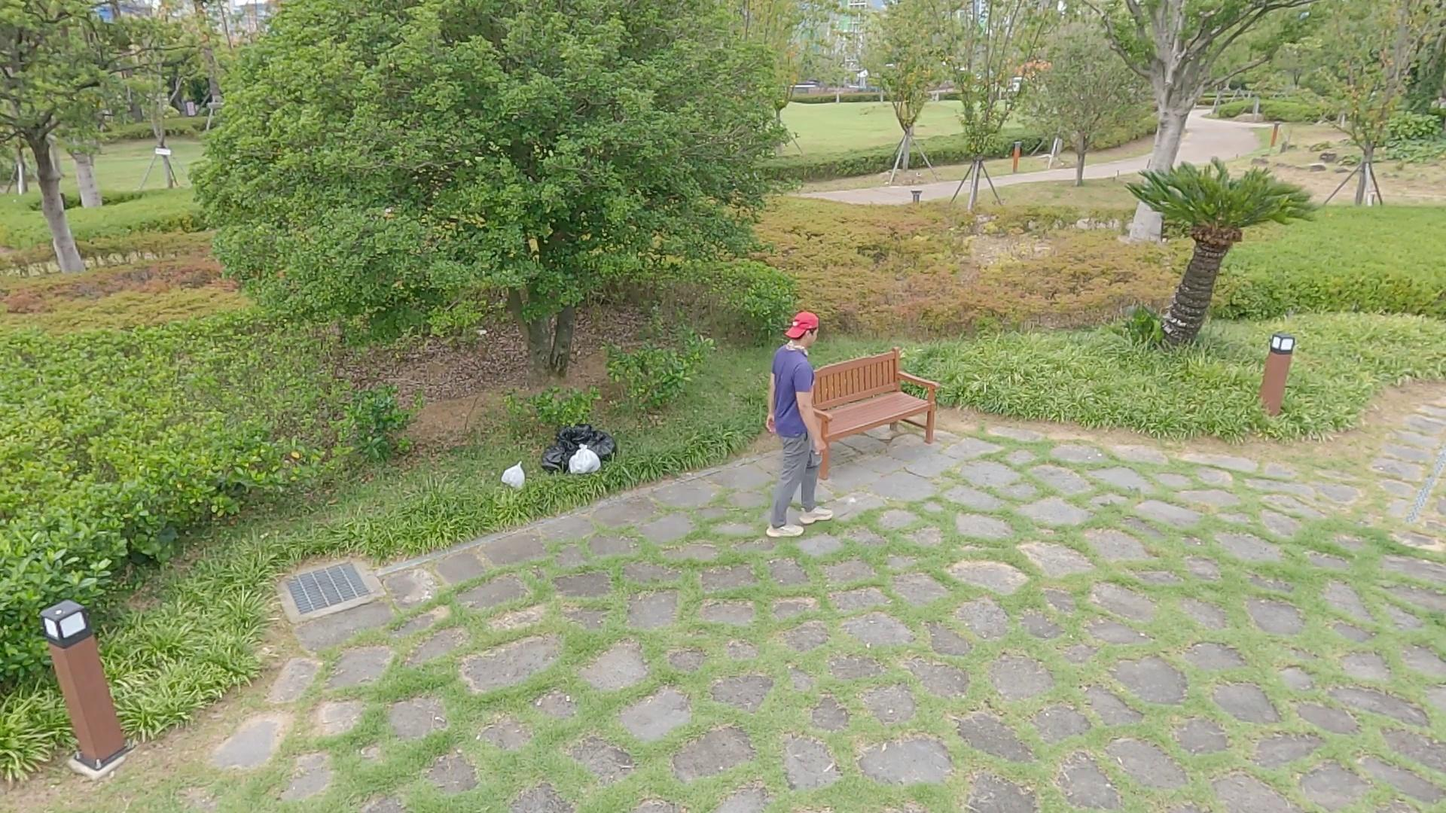person: (766, 308, 841, 541)
trash: (558, 414, 596, 454), (578, 427, 618, 465), (566, 444, 603, 478), (540, 431, 569, 472), (501, 460, 531, 493)
